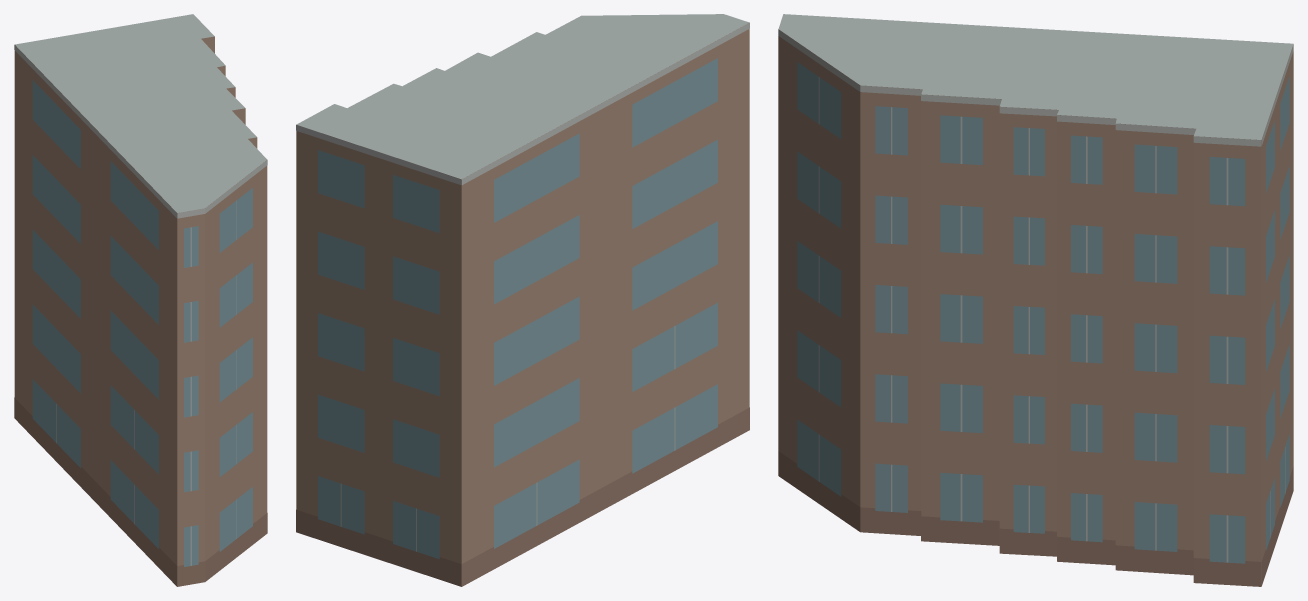
File: survey-upis-32507094.glb
3 renders of one model, left to right at view 1: azimuth 30°, elevation 25°; view 2: azimuth 150°, elevation 25°; view 3: azimuth 270°, elevation 25°, orthographic. The views are drawn at different scales.
Parts seen in each view (by area): view 1: survey-upis-32507094.tmp; view 2: survey-upis-32507094.tmp; view 3: survey-upis-32507094.tmp.
Part boxes in pixels (box(x1,y1,x2,y2)): survey-upis-32507094.tmp: box(14, 14, 267, 586); survey-upis-32507094.tmp: box(296, 14, 749, 586); survey-upis-32507094.tmp: box(778, 14, 1293, 586).
Size of the model in its own units: 9.93 by 16.4 by 17.15.
